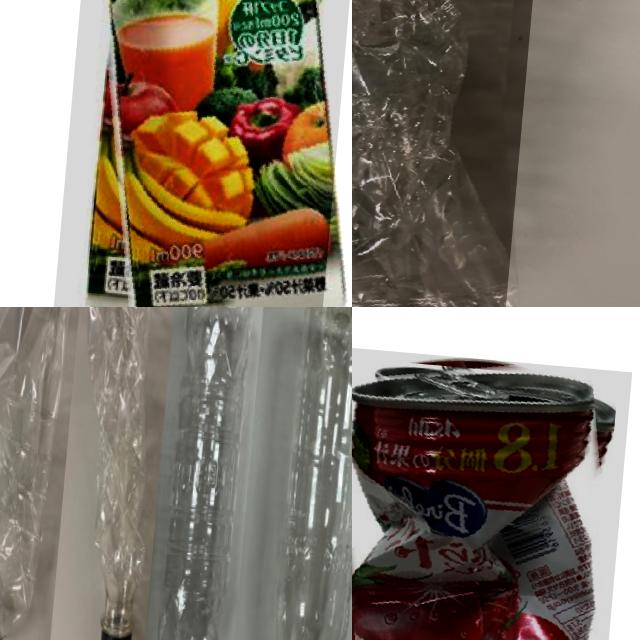Aluminium Foil: (51, 0, 352, 307)
Can: (352, 346, 631, 640)
Transparent Plastic Bottle: (352, 0, 542, 307), (50, 307, 170, 640), (140, 307, 257, 640), (256, 307, 352, 640), (0, 307, 73, 640)
